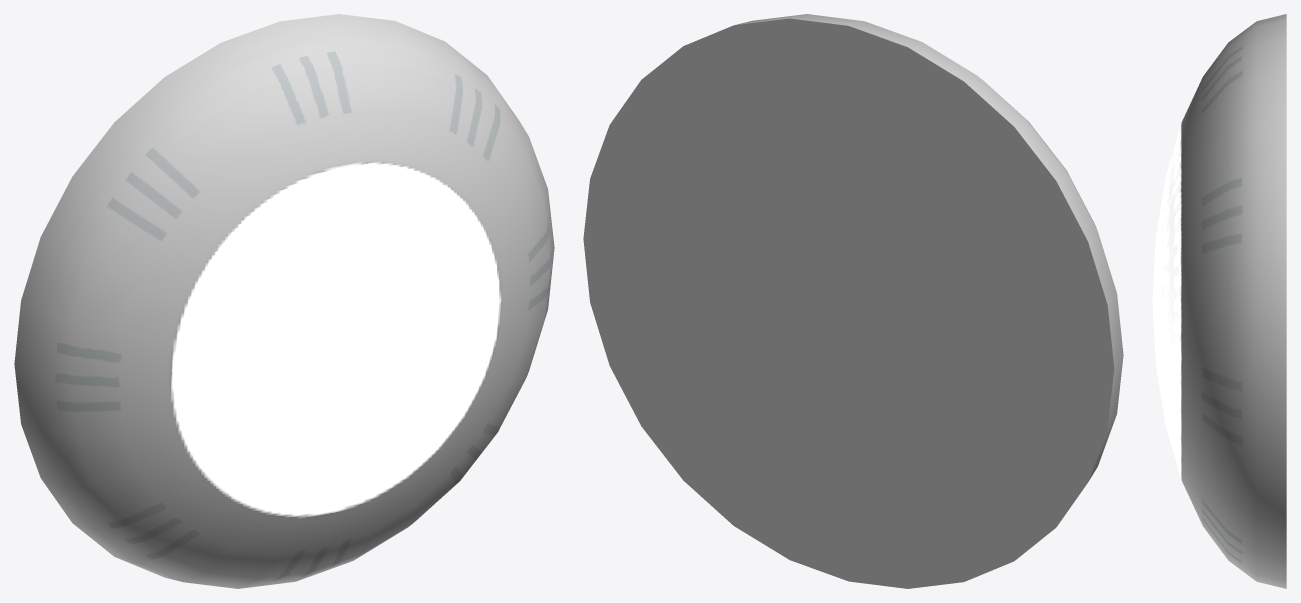
Rendered from PoolLight01_1.FBX.
3 renders of one model, left to right at view 1: azimuth 30°, elevation 25°; view 2: azimuth 150°, elevation 25°; view 3: azimuth 270°, elevation 25°, orthographic. The views are drawn at different scales.
Parts seen in each view (by area): view 1: PoolLight01_1; view 2: PoolLight01_1; view 3: PoolLight01_1.
Part boxes in pixels (x1,y1,x2,y2): PoolLight01_1: (14,14,554,588); PoolLight01_1: (583,14,1123,588); PoolLight01_1: (1152,14,1286,588).
Size of what is drawn, in the model's own units: 0.2 by 0.2 by 0.0466.
